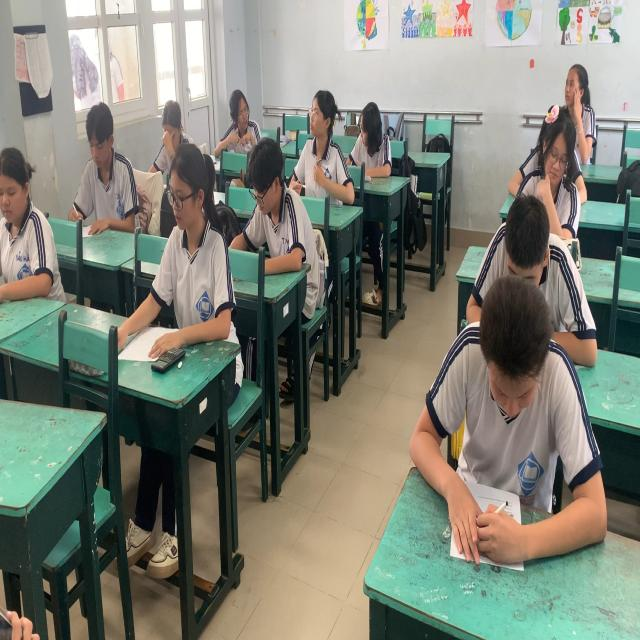cheating: (221, 77, 264, 164), (357, 84, 394, 174)
not_cheating: (454, 302, 564, 589), (160, 163, 230, 336), (0, 132, 50, 298), (80, 102, 144, 229), (240, 139, 300, 246), (291, 70, 347, 184), (504, 202, 550, 298), (562, 63, 596, 170), (538, 112, 577, 205), (150, 105, 202, 150)
